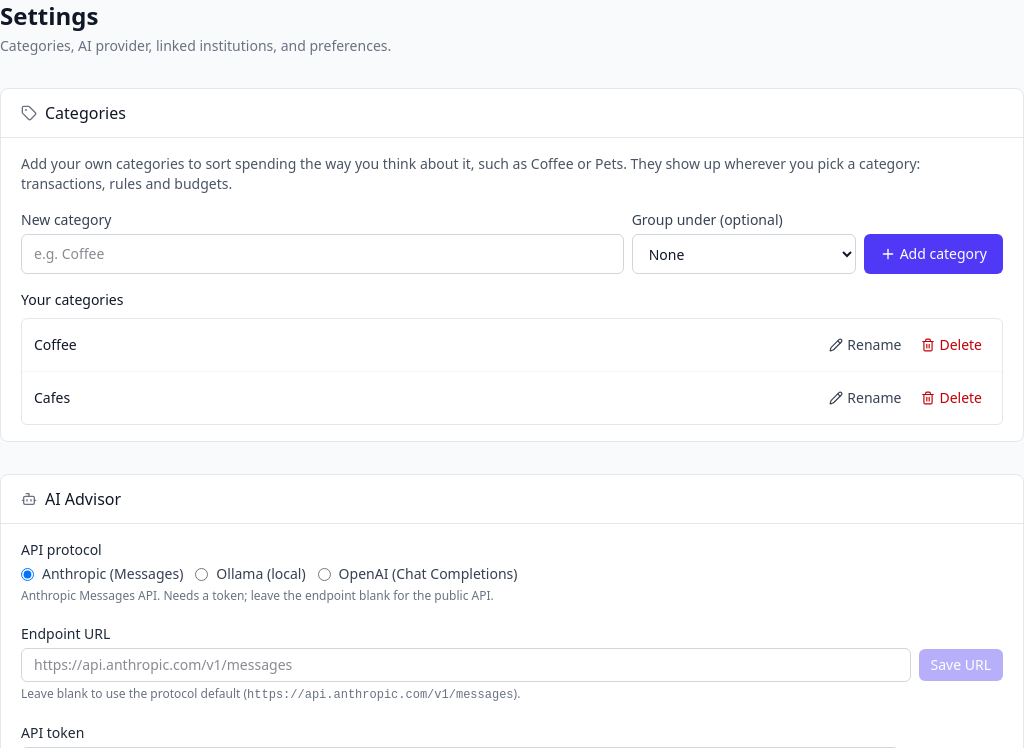
SettingsPage categories › delete or merge › requires a destination, then merges into the chosen category
Step 1. Click the button with aria-label "Delete or merge Coffee" → (952, 345), box [913, 327, 990, 363]
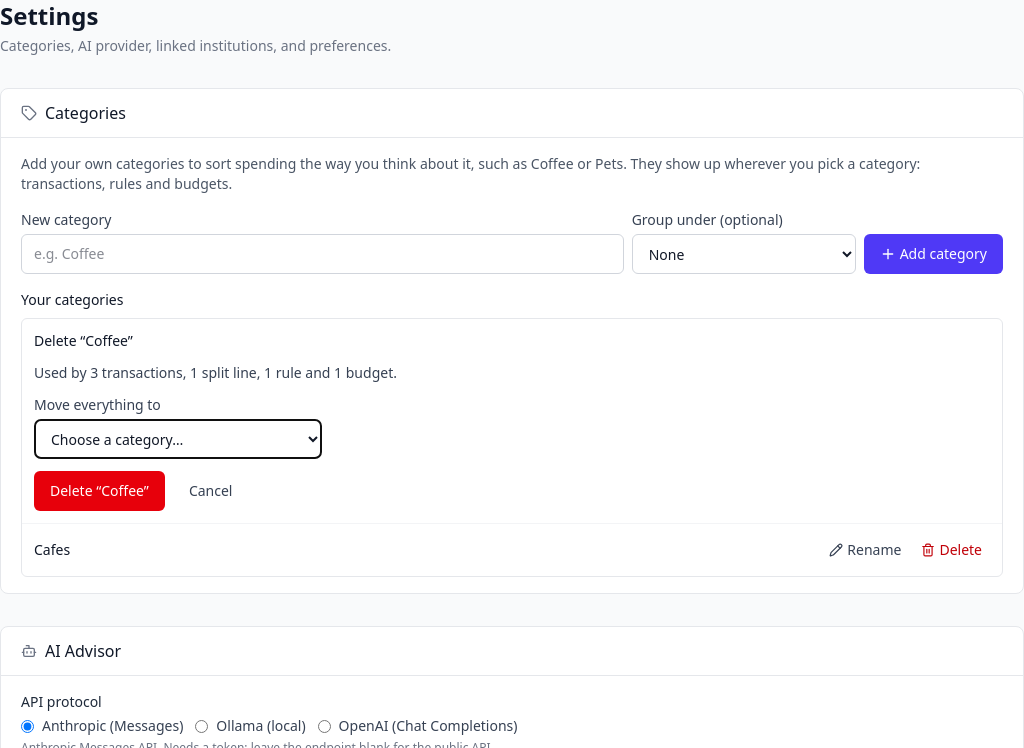
Now the text "Used by 3 transactions, 1 split line, 1 rule and 1 budget." is shown, box [34, 363, 397, 382]
Step 2. Click the button "Delete “Coffee”" → (99, 491), box [34, 471, 165, 511]
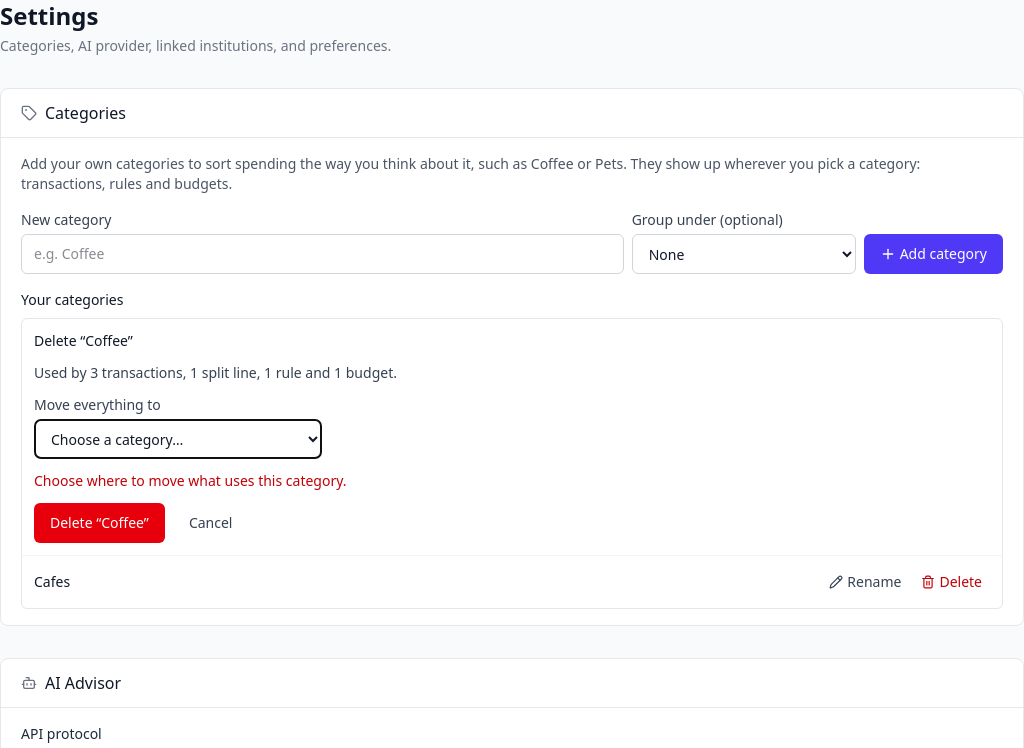
Now the message reads "Choose where to move what uses this category.", box [34, 471, 347, 490]
Step 3. Select "Cafes" in the dropdown labelled "Move everything to" → (178, 439), box [34, 419, 322, 459]
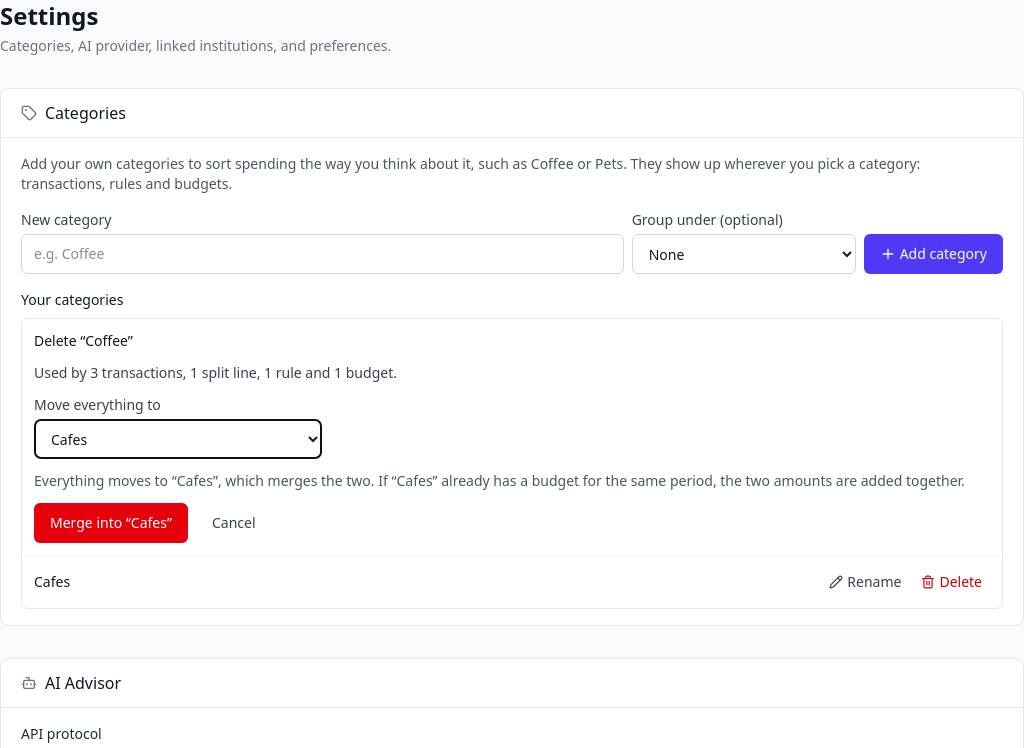
Now the text "moves to “Cafes”, which merges the two" is shown, box [34, 471, 990, 491]
Step 4. Click the button "Merge into “Cafes”" → (111, 523), box [34, 503, 188, 543]
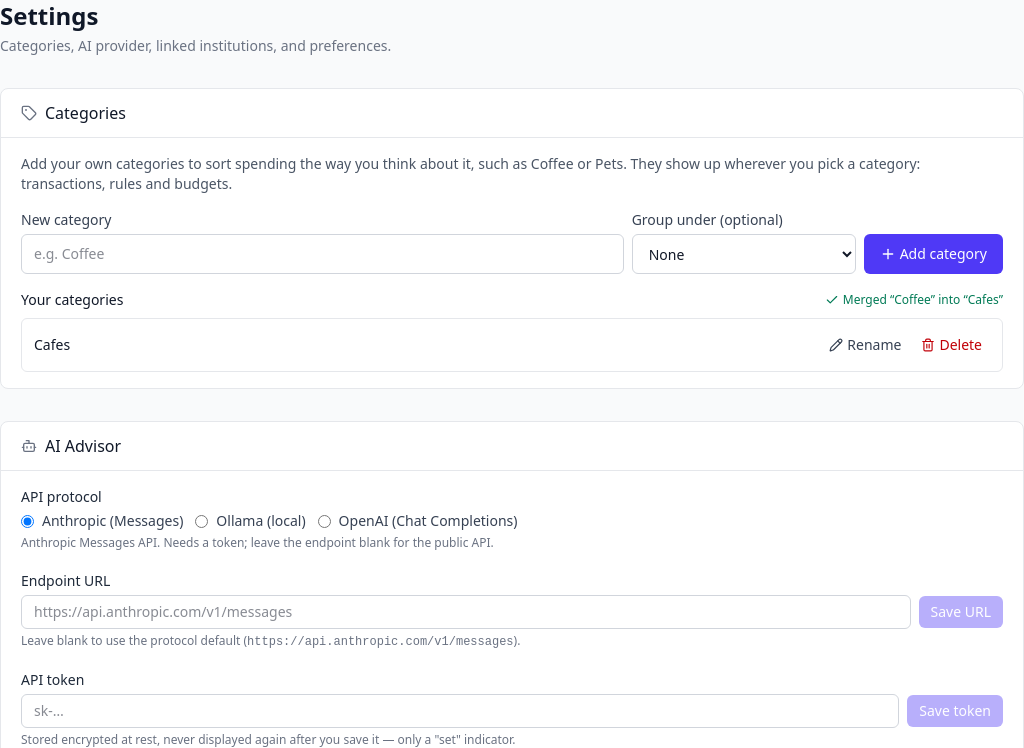
Now the message reads "Merged “Coffee” into “Cafes”", box [843, 291, 1003, 308]
